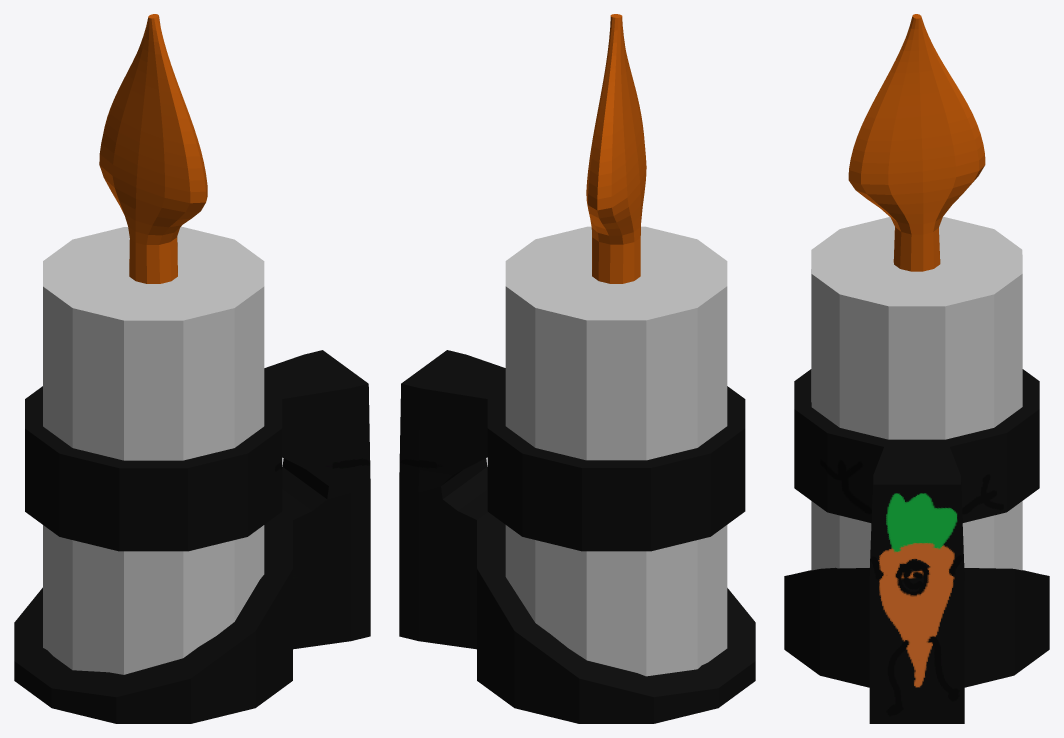
Rendered from Toche_au_mur.fbx.
3 views of the same model, side by side, from view 1: azimuth 30°, elevation 25°; view 2: azimuth 150°, elevation 25°; view 3: azimuth 270°, elevation 25° (orthographic). The views are drawn at different scales.
Visible parts, largest first — view 1: node_id9 (×3); view 2: node_id9 (×3); view 3: node_id9 (×3).
Boxes of the visible parts, x1,y1,x2,y2 form: node_id9 (×3): (14,14,370,723); node_id9 (×3): (399,14,755,723); node_id9 (×3): (784,14,1049,723).
Size of the model in its own units: 0.2583 by 0.512 by 0.1992.
Materials: 4 (1 with a texture image).
